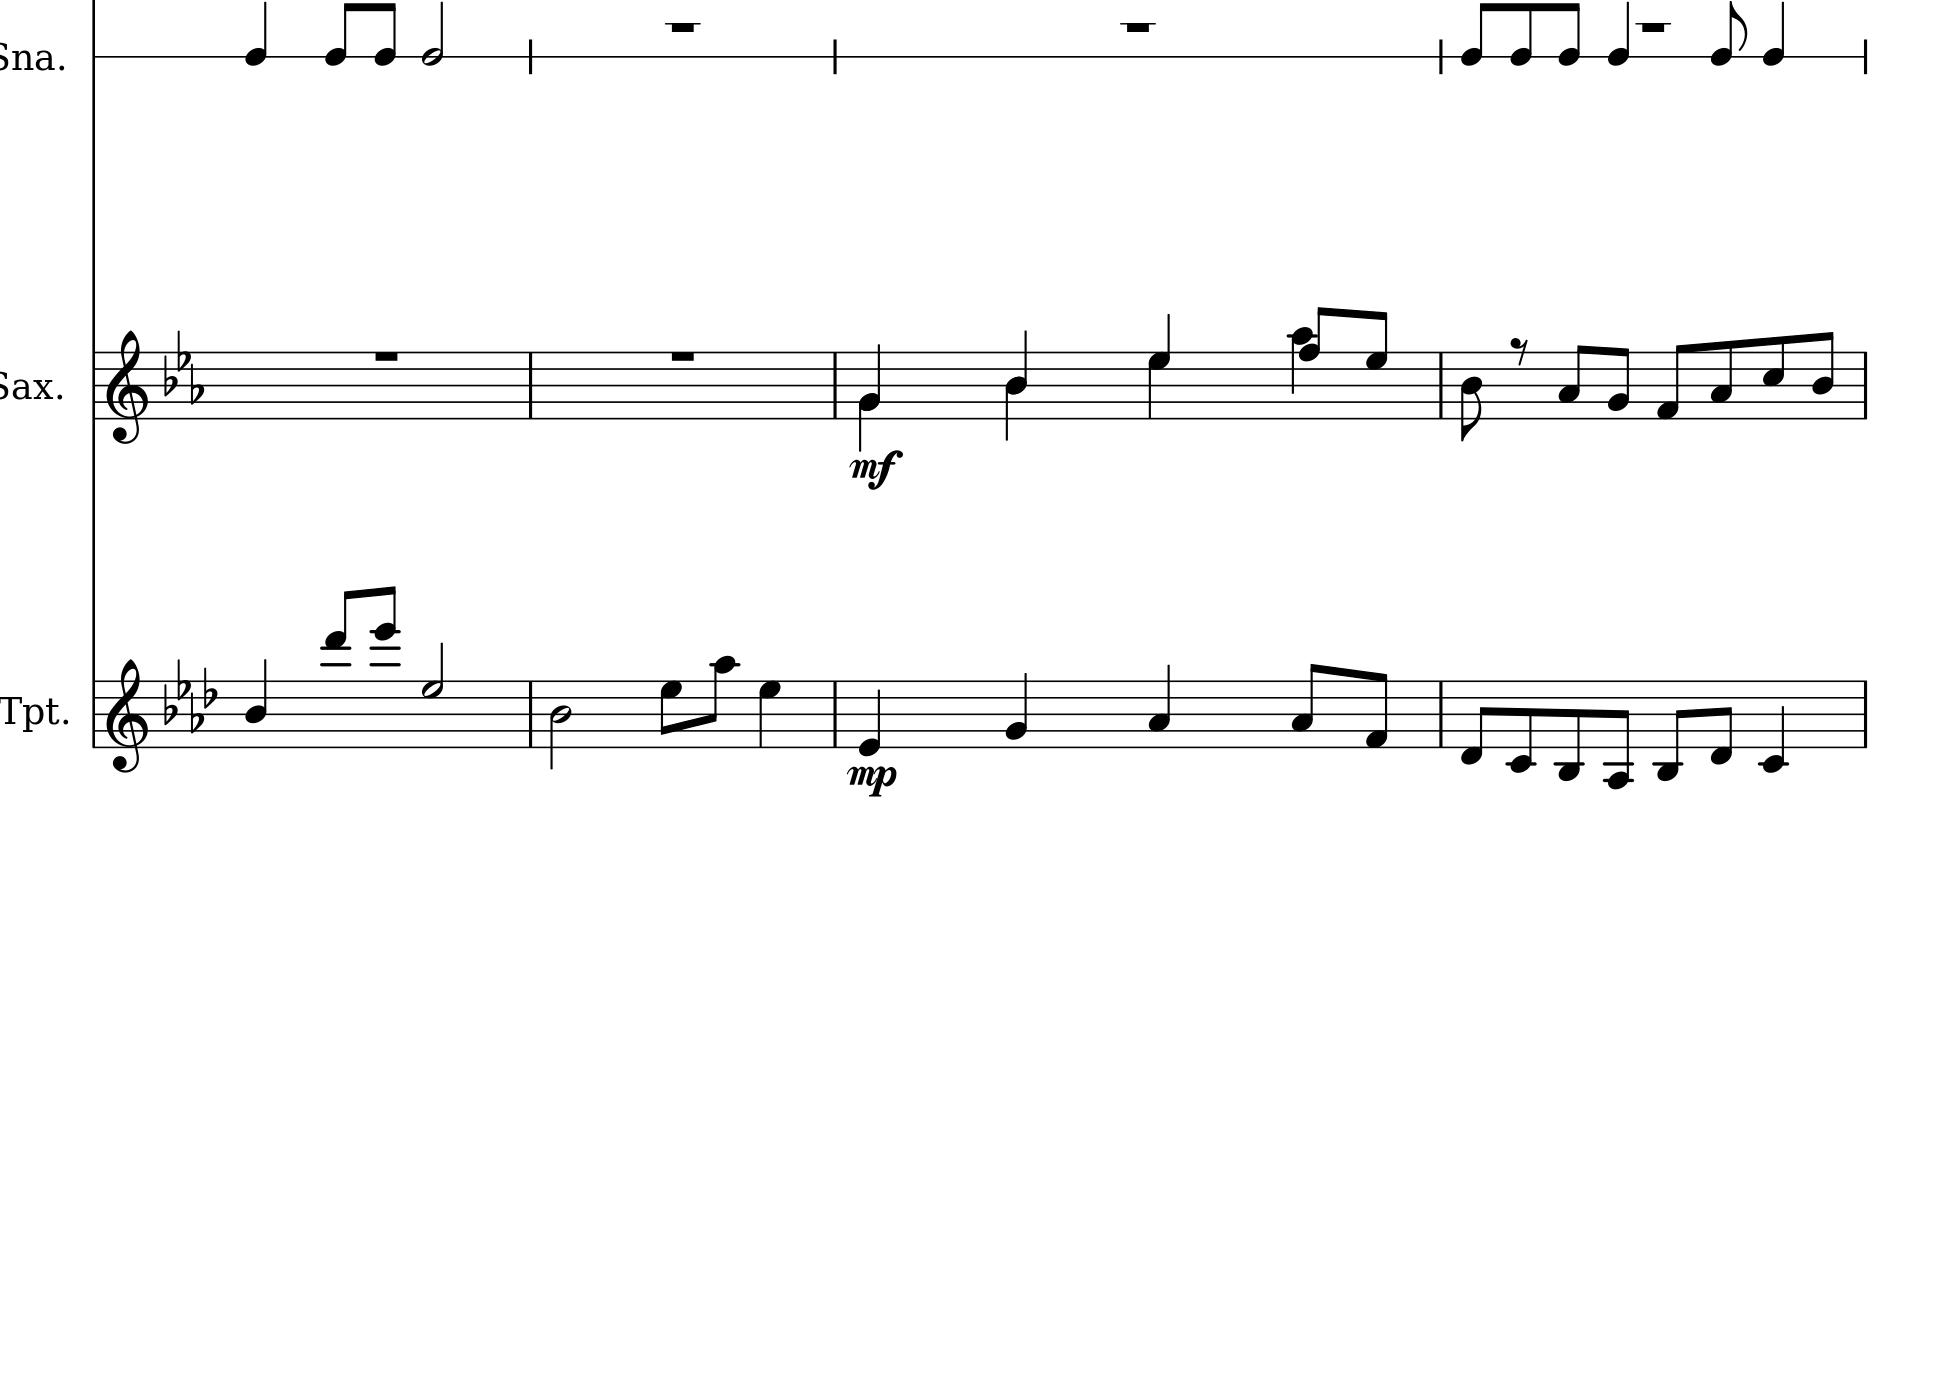2_4: (547, 678, 573, 769), (421, 1, 445, 64)
2_7: (420, 640, 445, 748)
4_-2: (1761, 676, 1789, 774)
4_0: (858, 676, 882, 757)
4_2: (1005, 670, 1030, 748)
4_3: (1147, 661, 1173, 750)
4_4: (243, 655, 268, 748), (1762, 1, 1786, 67)
4_7: (757, 678, 784, 748)
8_-1: (1459, 678, 1491, 766), (1710, 678, 1737, 766)
8_-2: (1506, 678, 1536, 772)
8_-3: (1654, 678, 1689, 781), (1555, 678, 1585, 781)
8_-4: (1605, 676, 1635, 789)
8_1: (1656, 340, 1690, 420), (1365, 669, 1390, 751)
8_10: (700, 654, 736, 748)
8_13: (319, 583, 357, 748)
8_14: (369, 580, 400, 750)
8_2: (1608, 345, 1632, 421)
8_3: (1290, 661, 1323, 750), (1557, 343, 1590, 421), (1710, 337, 1735, 420)
8_4: (1710, 1, 1749, 67), (1458, 349, 1485, 444), (1812, 328, 1836, 420), (324, 1, 355, 67), (1461, 1, 1492, 66), (244, 1, 270, 67), (1606, 1, 1632, 67), (373, 1, 397, 67), (1510, 1, 1534, 67), (1558, 1, 1582, 67)
8_5: (1762, 333, 1788, 420)
8_7: (1365, 309, 1389, 421), (658, 678, 682, 748)
A_F: (160, 654, 217, 733)
E_F: (163, 328, 204, 403)
Gclef: (103, 655, 150, 774), (103, 328, 150, 445)
Rests1: (1122, 18, 1155, 37), (370, 346, 403, 364), (667, 18, 699, 36), (667, 346, 699, 364), (1639, 18, 1668, 34)
Rests8: (1509, 334, 1530, 366)
Sax: (1, 366, 52, 405)
Single_barline: (1431, 679, 1450, 747), (826, 679, 844, 747), (826, 352, 844, 417), (1857, 679, 1873, 748), (522, 679, 538, 747), (522, 352, 538, 418), (1434, 352, 1450, 417), (87, 679, 102, 748), (1858, 351, 1873, 418), (87, 349, 100, 421)
Tpt: (1, 688, 60, 733)
mf: (847, 447, 903, 492)
mp: (844, 760, 901, 801)
